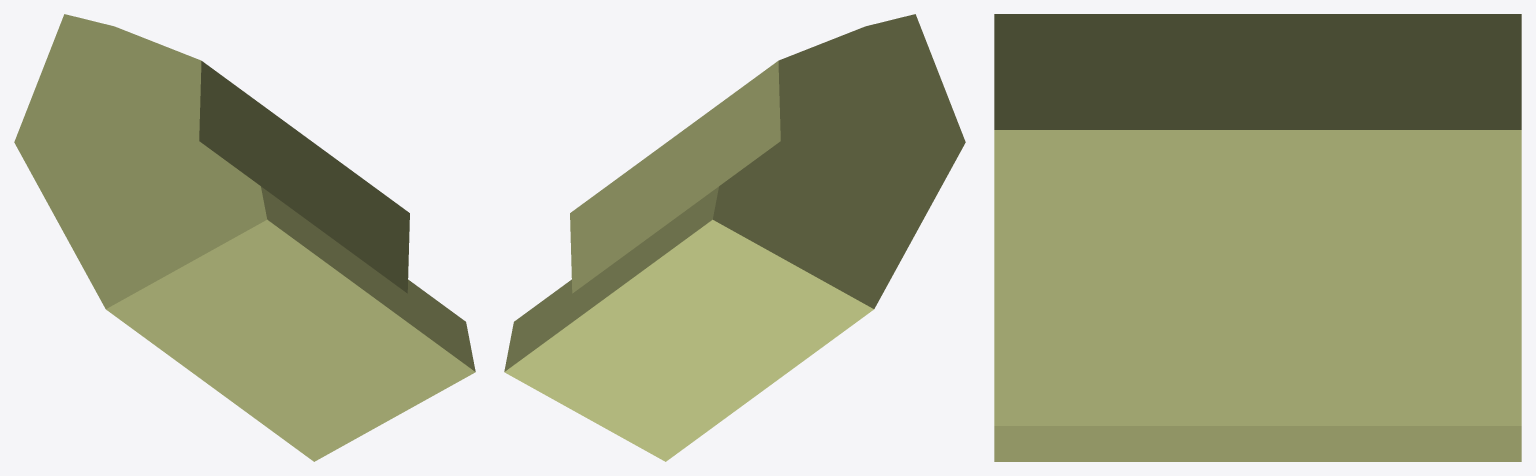
3 renders of one model, left to right at view 1: azimuth 30°, elevation 25°; view 2: azimuth 150°, elevation 25°; view 3: azimuth 270°, elevation 25°, orthographic. The views are drawn at different scales.
Parts seen in each view (by area): view 1: 0_1_1_3_3_0_1_2_2_3_1; view 2: 0_1_1_3_3_0_1_2_2_3_1; view 3: 0_1_1_3_3_0_1_2_2_3_1.
Part boxes in pixels (left/top/right/bottom): 0_1_1_3_3_0_1_2_2_3_1: left=14, top=14, right=475, bottom=461; 0_1_1_3_3_0_1_2_2_3_1: left=504, top=14, right=965, bottom=461; 0_1_1_3_3_0_1_2_2_3_1: left=994, top=14, right=1521, bottom=461.
Bounding box in the file's own units: 6.31 × 7.27 × 9.
